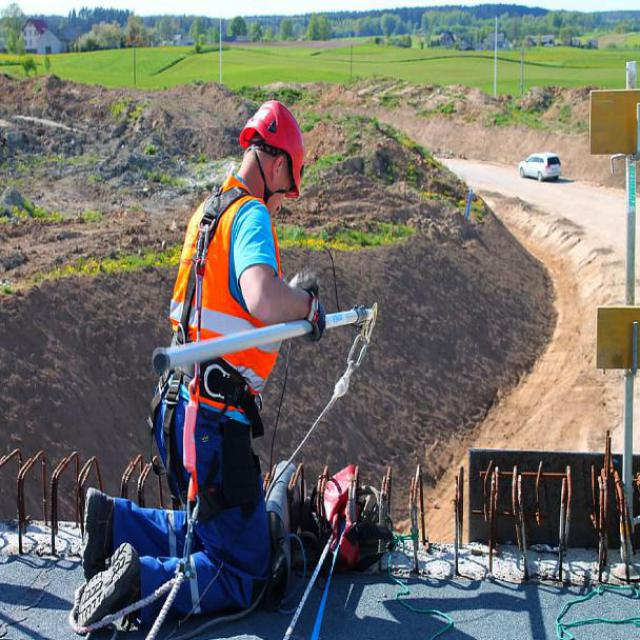gloves: (300, 274, 324, 345)
helmet: (240, 85, 308, 214)
vest: (163, 180, 272, 413)
